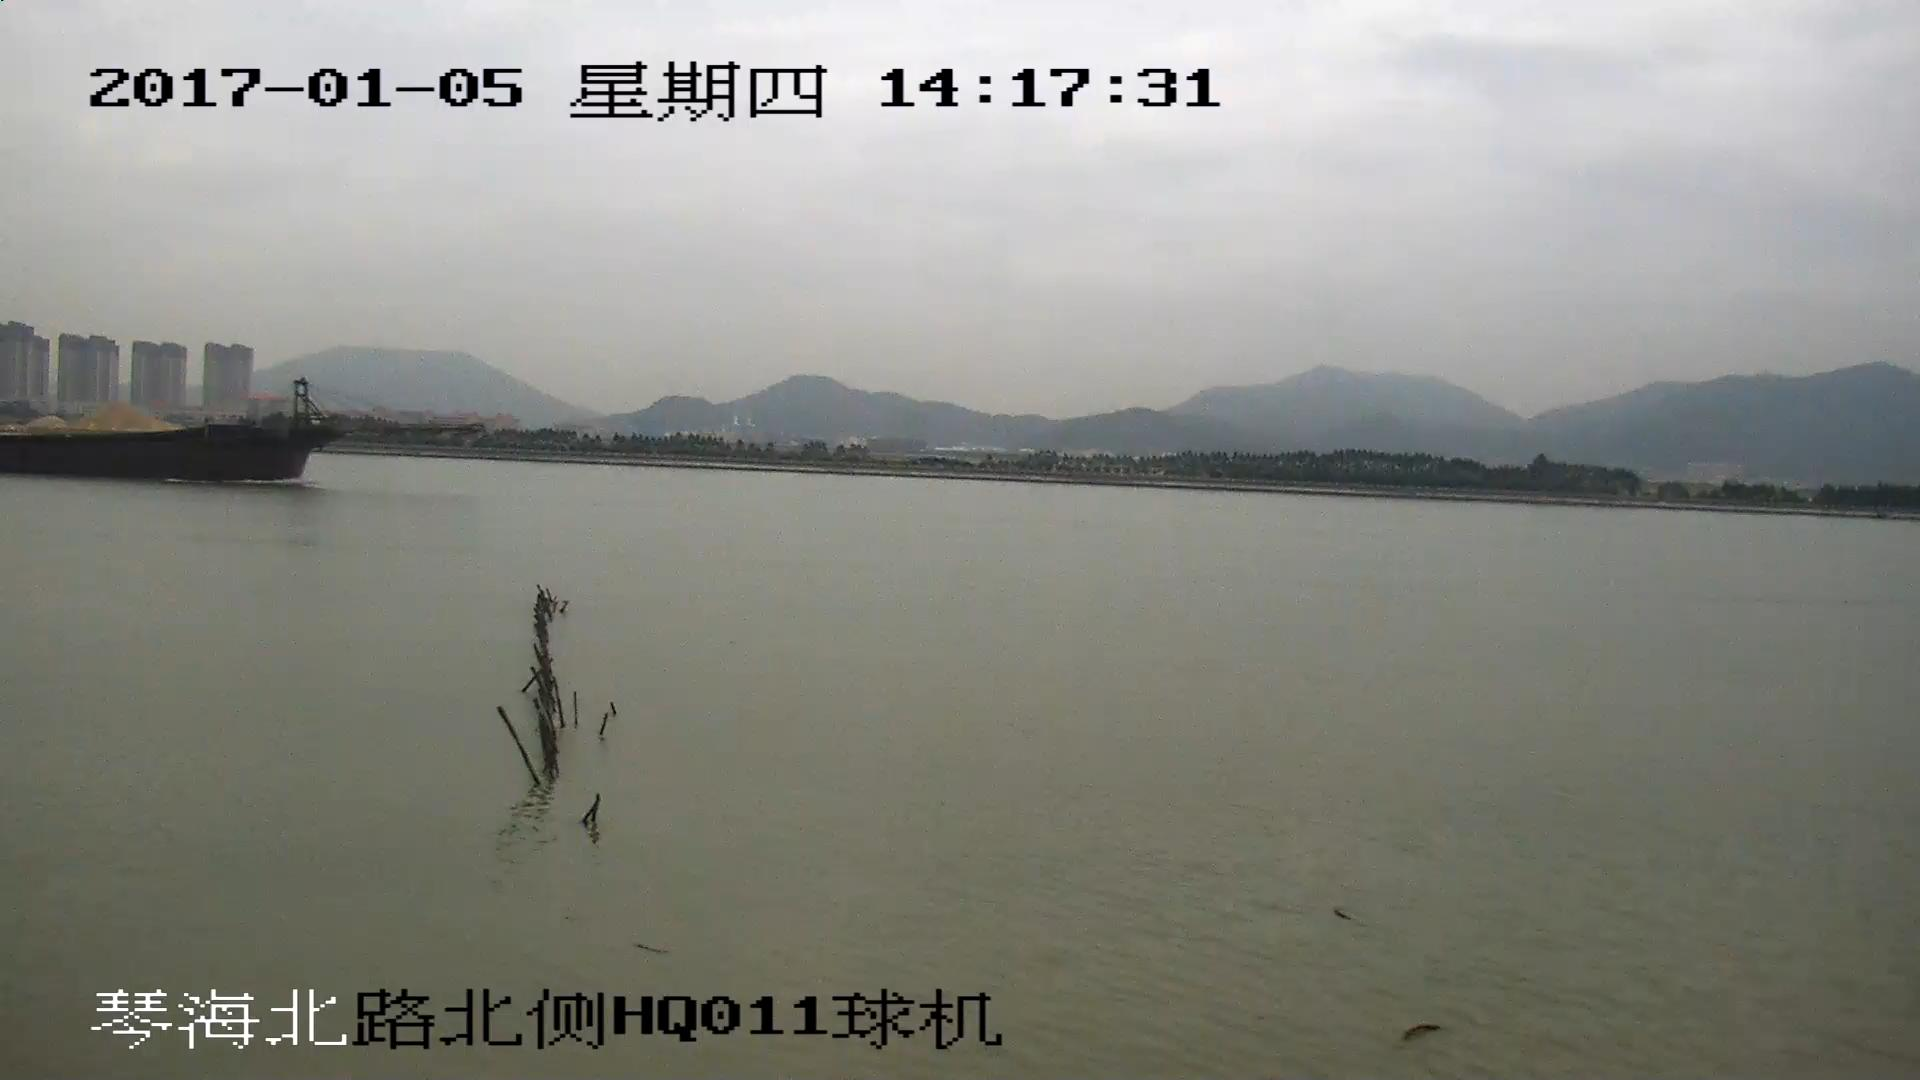bulk cargo carrier: (1, 379, 448, 479)
